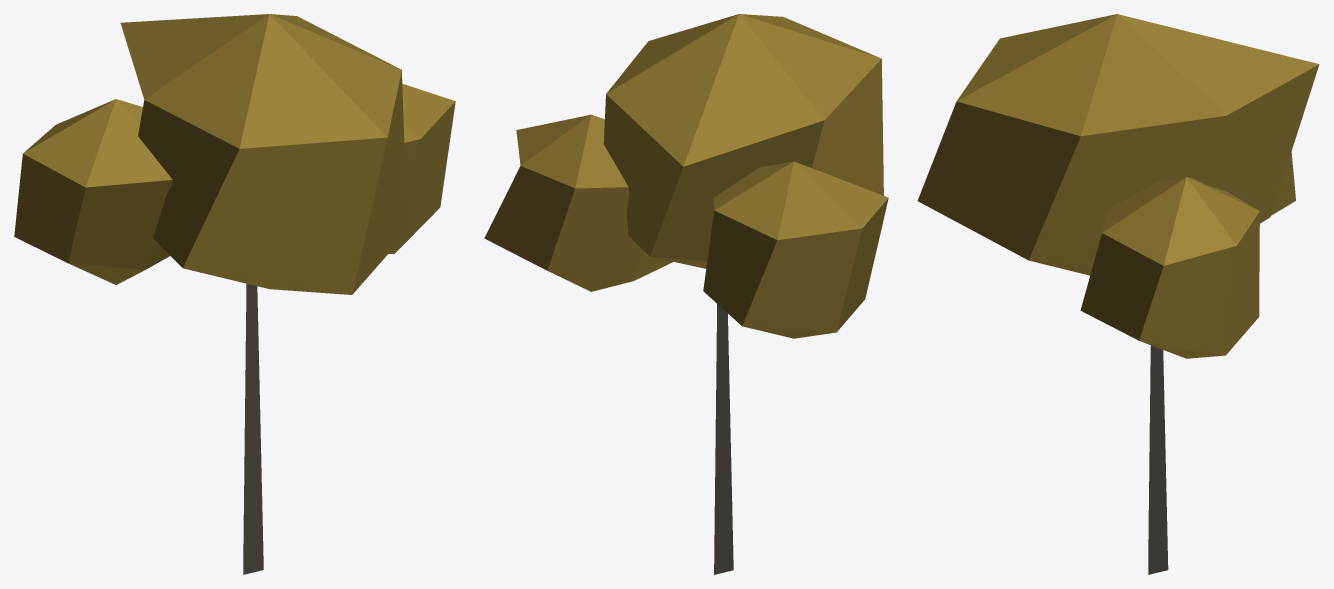
The model's file is cottonwood-far.glb.
3 renders of one model, left to right at view 1: azimuth 30°, elevation 25°; view 2: azimuth 150°, elevation 25°; view 3: azimuth 270°, elevation 25°, orthographic. The views are drawn at different scales.
Parts seen in each view (by area): view 1: cottonwood-far / foliage, cottonwood-far / wood; view 2: cottonwood-far / foliage, cottonwood-far / wood; view 3: cottonwood-far / foliage, cottonwood-far / wood.
Boxes of the visible parts, bbox=[...] form: cottonwood-far / foliage: bbox=[14, 14, 455, 294]; cottonwood-far / wood: bbox=[243, 283, 263, 574]; cottonwood-far / foliage: bbox=[484, 14, 888, 338]; cottonwood-far / wood: bbox=[714, 304, 733, 574]; cottonwood-far / foliage: bbox=[917, 14, 1319, 358]; cottonwood-far / wood: bbox=[1148, 345, 1168, 574].
Bounding box in the file's own units: 11.37 × 15.49 × 10.15.
